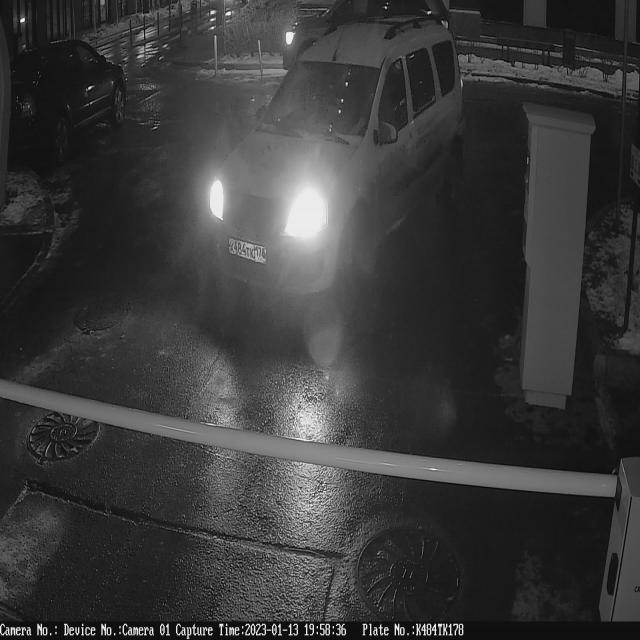car-plate-numbers: (227, 234, 269, 272)
